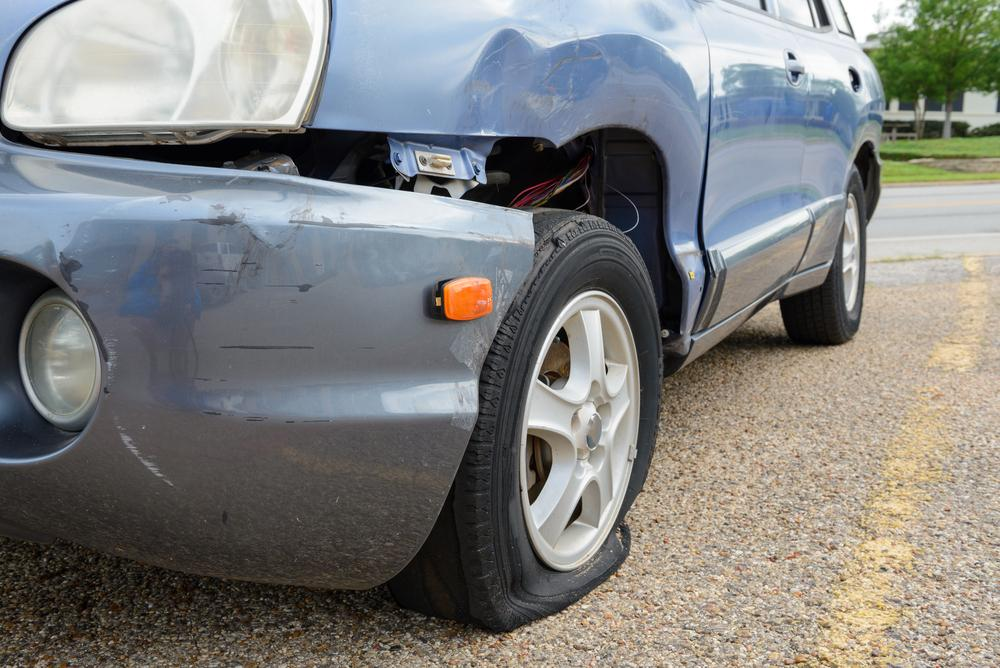dent: (473, 31, 607, 135)
scratch: (46, 175, 420, 490)
tire flat: (414, 207, 665, 636)
